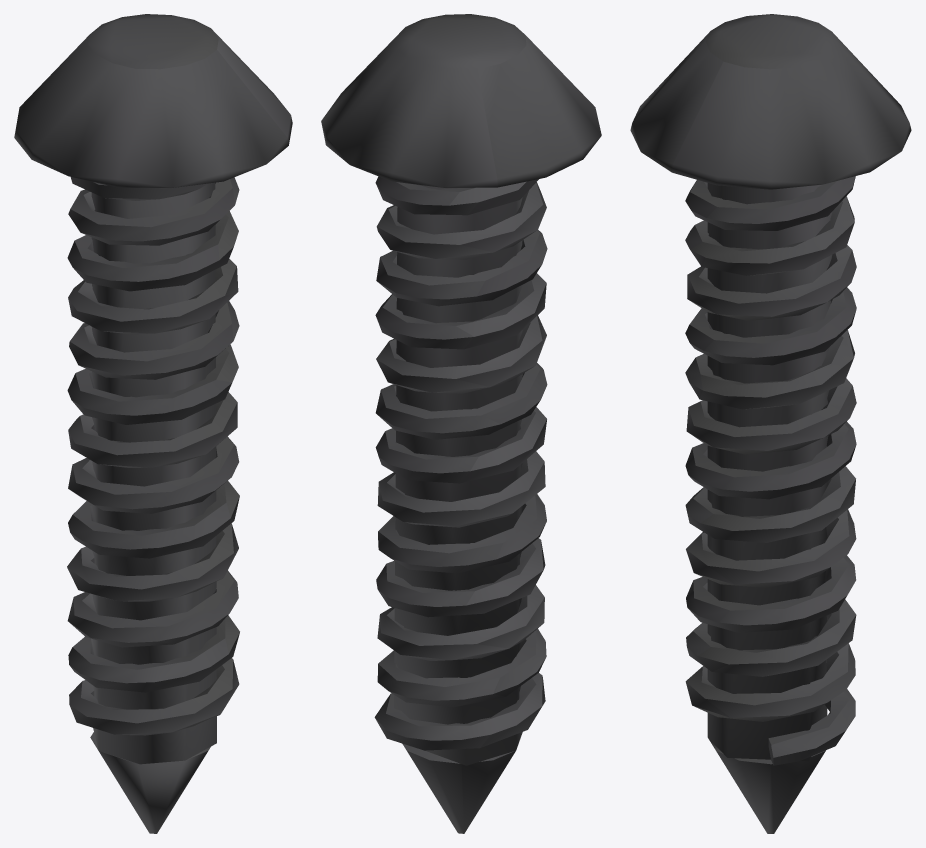
File: ALV-DRY-006.glb
The picture shows the model from 3 angles, left to right: view 1: azimuth 30°, elevation 25°; view 2: azimuth 150°, elevation 25°; view 3: azimuth 270°, elevation 25°; orthographic projection.
Visible parts, largest first — view 1: ALV-DRY-006_rosca, ALV-DRY-006_cab, ALV-DRY-006_haste, ALV-DRY-006_ponta; view 2: ALV-DRY-006_rosca, ALV-DRY-006_cab, ALV-DRY-006_haste, ALV-DRY-006_ponta; view 3: ALV-DRY-006_rosca, ALV-DRY-006_cab, ALV-DRY-006_haste, ALV-DRY-006_ponta.
Part boxes in pixels (x1,y1,x2,y2): ALV-DRY-006_rosca: (67, 177, 239, 735); ALV-DRY-006_cab: (14, 14, 292, 188); ALV-DRY-006_haste: (91, 182, 216, 764); ALV-DRY-006_ponta: (90, 732, 210, 833); ALV-DRY-006_rosca: (374, 176, 547, 750); ALV-DRY-006_cab: (321, 14, 601, 188); ALV-DRY-006_haste: (394, 184, 522, 765); ALV-DRY-006_ponta: (402, 732, 522, 833); ALV-DRY-006_rosca: (685, 176, 856, 765); ALV-DRY-006_cab: (630, 14, 911, 189); ALV-DRY-006_haste: (707, 183, 832, 761); ALV-DRY-006_ponta: (708, 738, 825, 833).
Bounding box in the file's own units: 0.00801 × 0.025 × 0.00801.
Materials: 1 (1 with a texture image).
